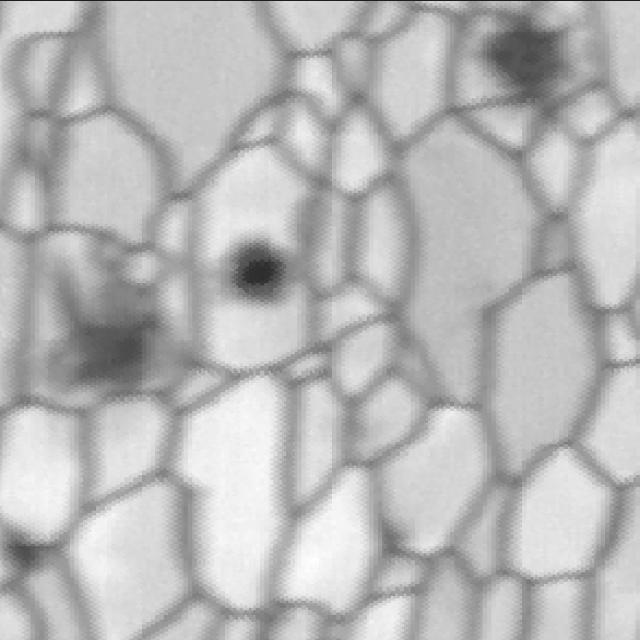good_void: (17, 209, 188, 406), (469, 16, 578, 127), (216, 223, 296, 306), (0, 518, 64, 586), (366, 510, 417, 565)
